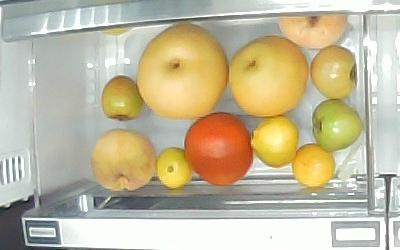peach: (90, 129, 157, 192), (278, 13, 348, 49)
pear: (137, 23, 228, 120), (228, 37, 309, 117)
tangerine: (251, 116, 298, 167), (292, 142, 335, 189), (156, 147, 191, 189)
tomato: (184, 112, 253, 186), (313, 99, 363, 152), (310, 45, 358, 100), (101, 75, 143, 122)
